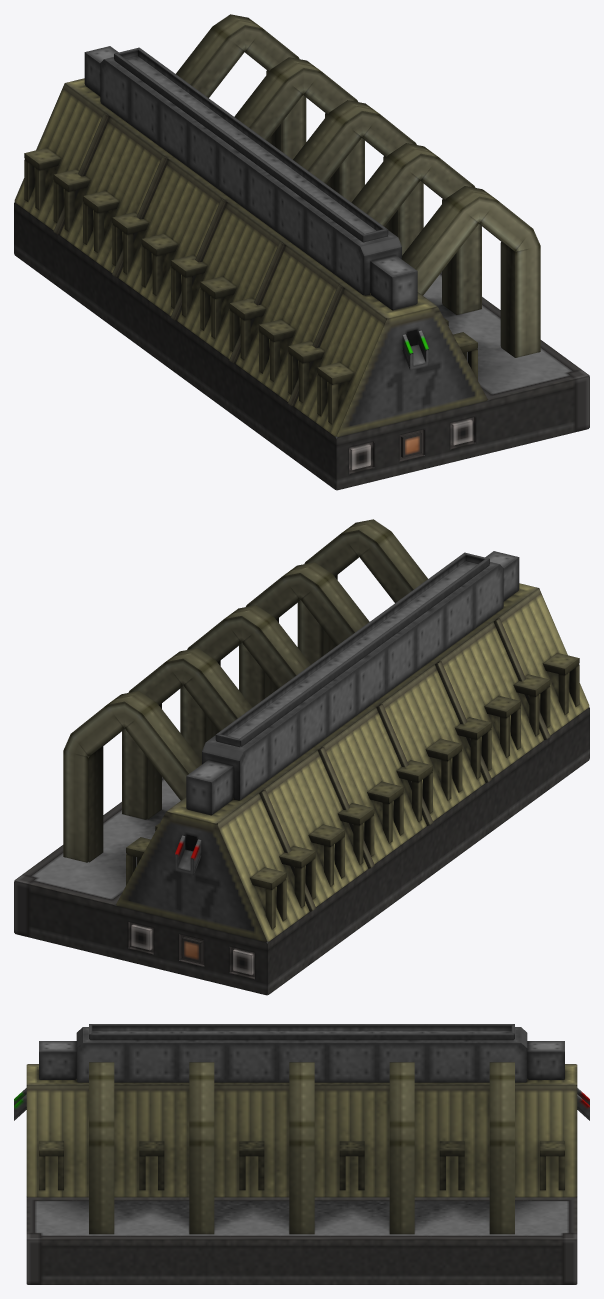
The model's file is electrolyser.obj.
The picture shows the model from 3 angles, top to bottom: view 1: azimuth 30°, elevation 25°; view 2: azimuth 150°, elevation 25°; view 3: azimuth 270°, elevation 25°; orthographic projection. The views are drawn at different scales.
Parts seen in each view (by area): view 1: Cube_Cube.001; view 2: Cube_Cube.001; view 3: Cube_Cube.001.
Part boxes in pixels (x1,y1,x2,y2): Cube_Cube.001: (14, 14, 589, 490); Cube_Cube.001: (14, 519, 589, 995); Cube_Cube.001: (14, 1024, 589, 1284).
Size of the model in its own units: 5.06 by 4.21 by 11.5.
